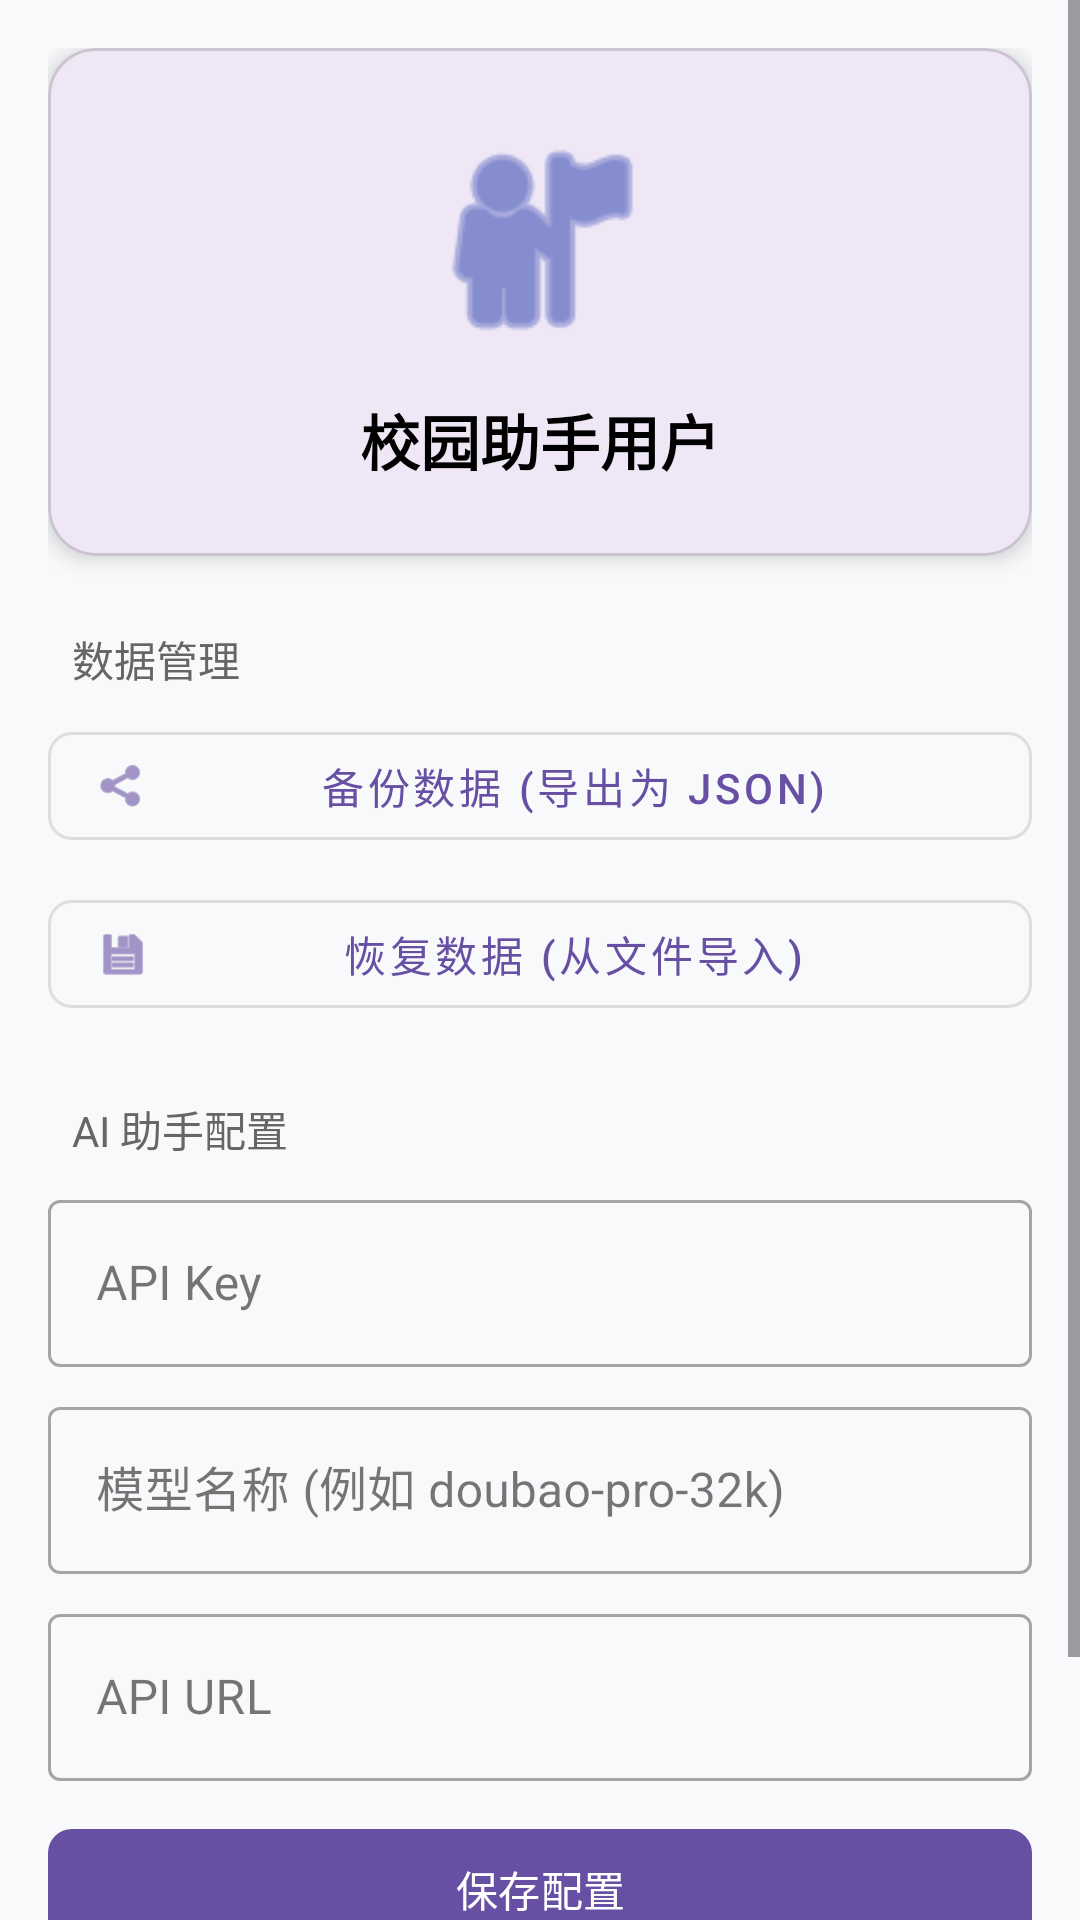

Named icons in this screenshot (1080 x 1920) and their centers, (x=x, y=y):
myplaces: (x=542, y=240)
